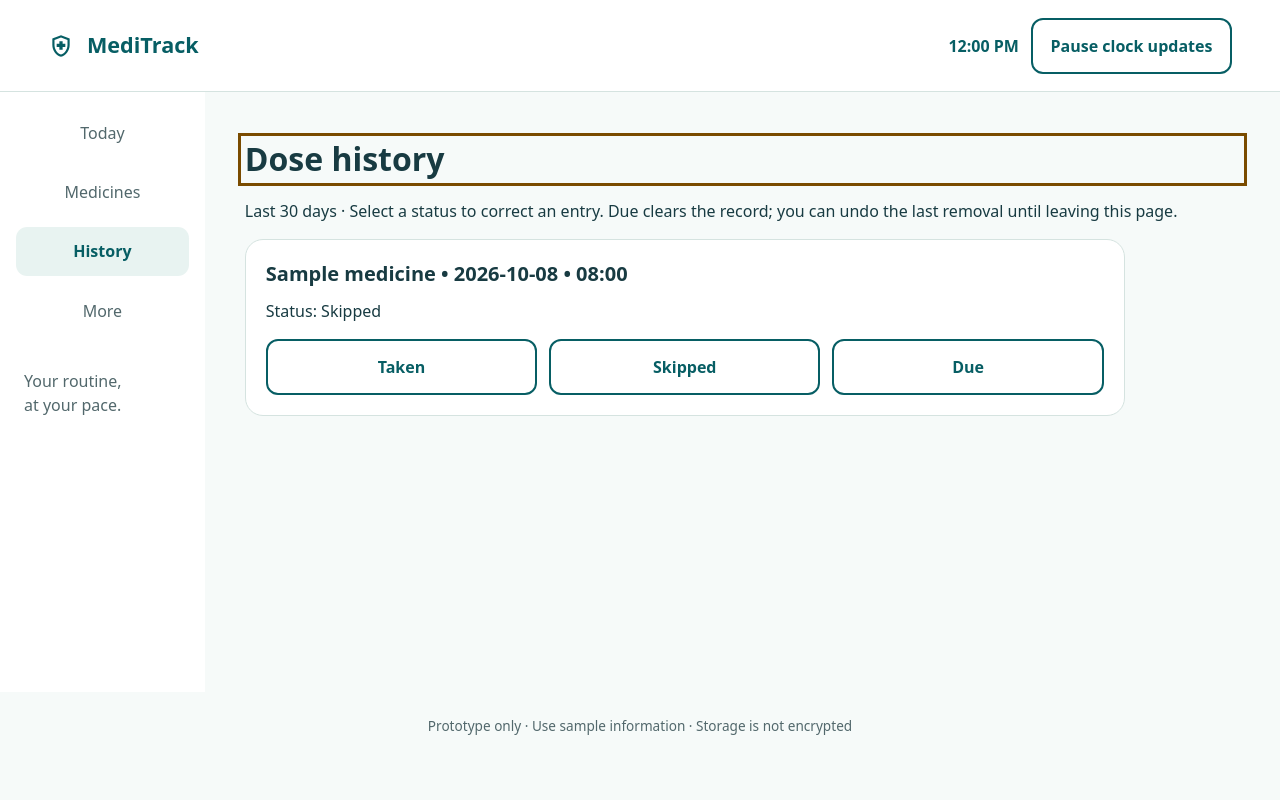
Test: keeps removal and Undo available in memory when persistence fails
Step 1. Click the button "Due" → (968,367), box [832, 339, 1104, 395]
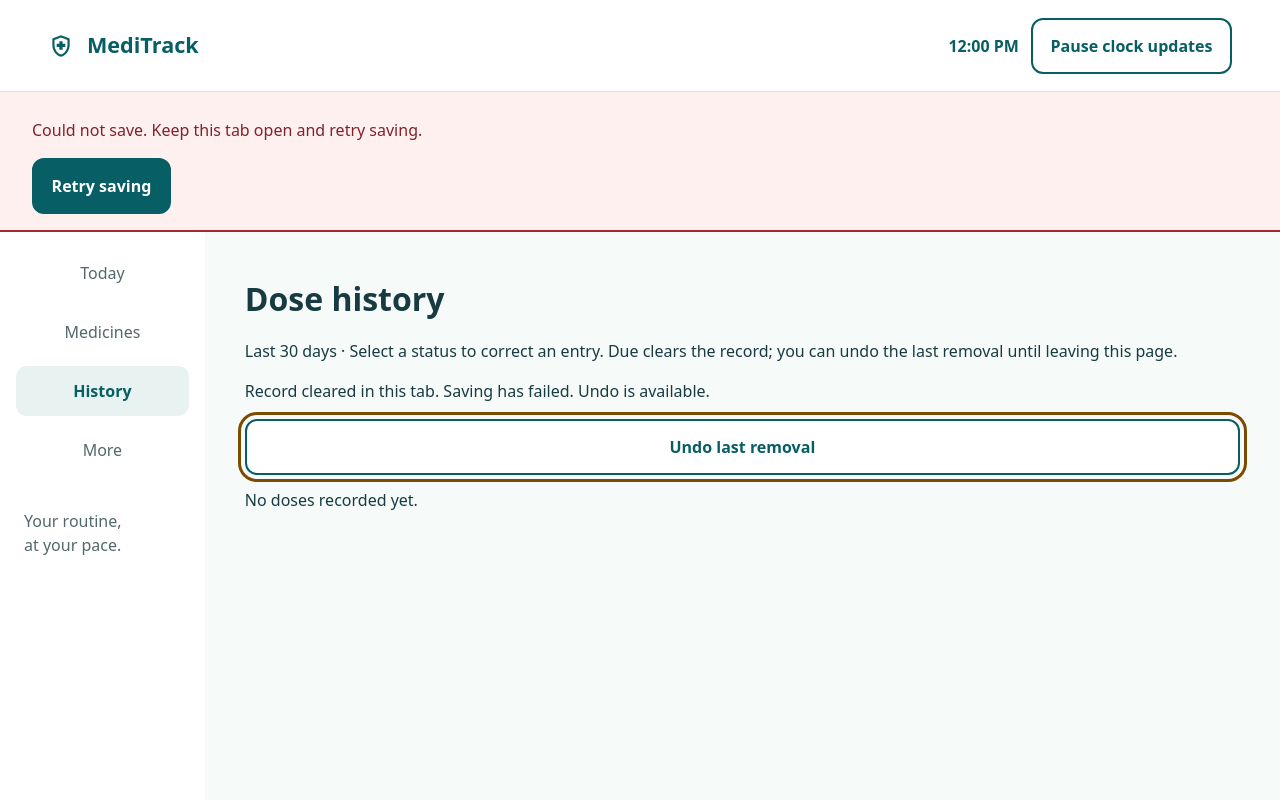
Expected: the message "Record cleared in this tab. Saving has failed. Undo is available." is shown, [245, 380, 710, 402]
Step 2. Click the button "Undo last removal" → (742,447), box [245, 419, 1240, 475]
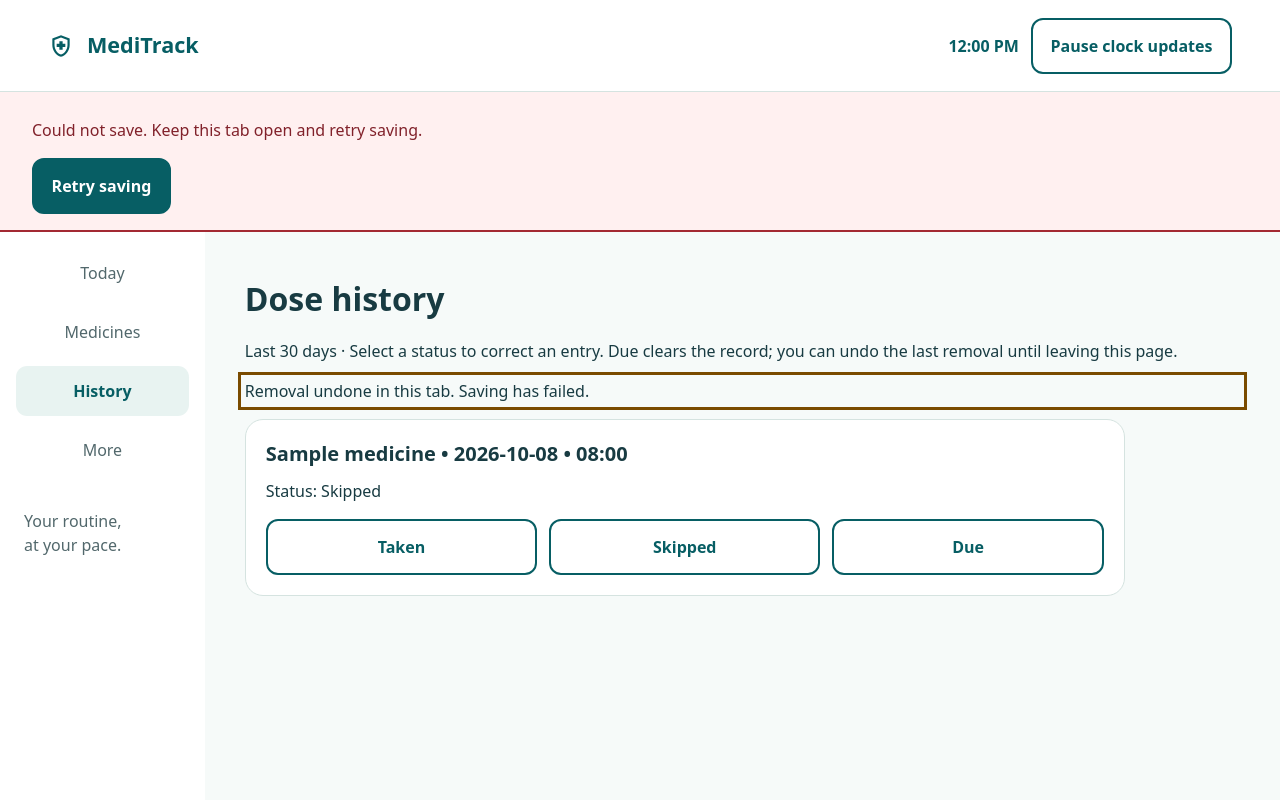
Expected: the button "Skipped" is shown, [549, 519, 820, 575]
